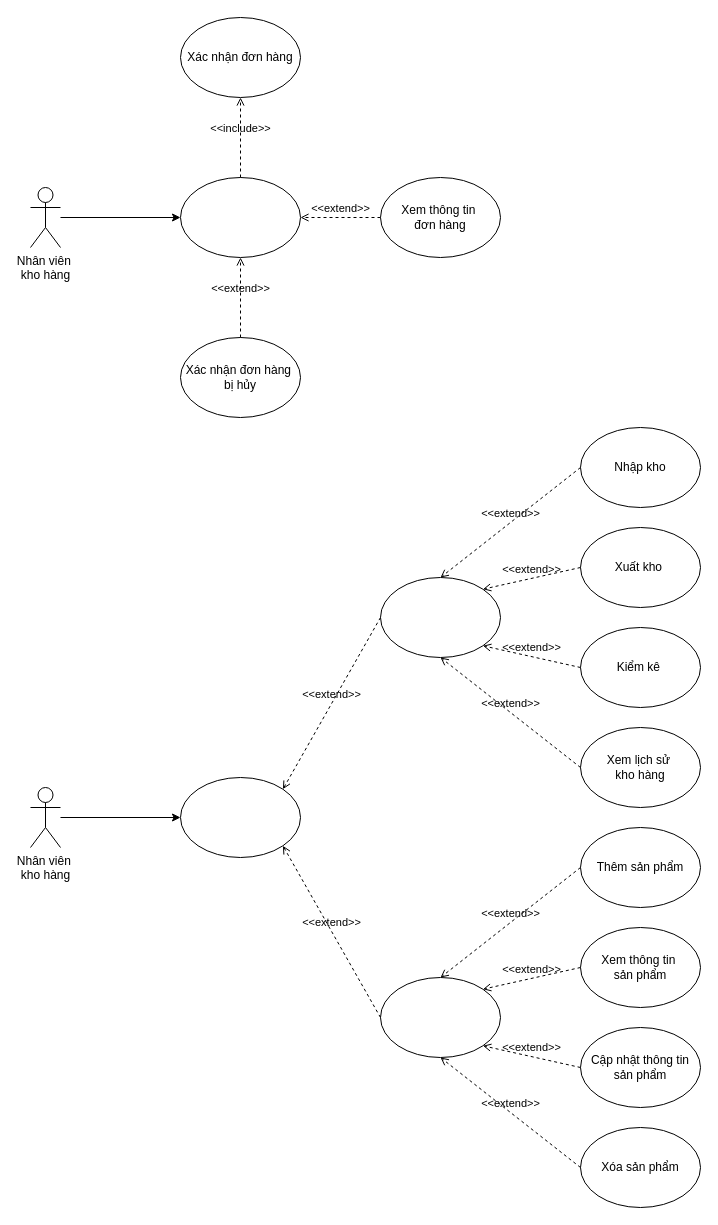
Some shapes in this 718 by 1225 pixel diagram are drawn without their labels. Here are the shapes that lost their labels. From the top down, the box of each, then its label:
(180, 176, 300, 258): Quản lí đơn hàng
(380, 576, 500, 658): Quản lí hàng hóa
(180, 776, 300, 858): Quản lí kho hàng
(380, 976, 500, 1058): Quản lí sản phẩm
